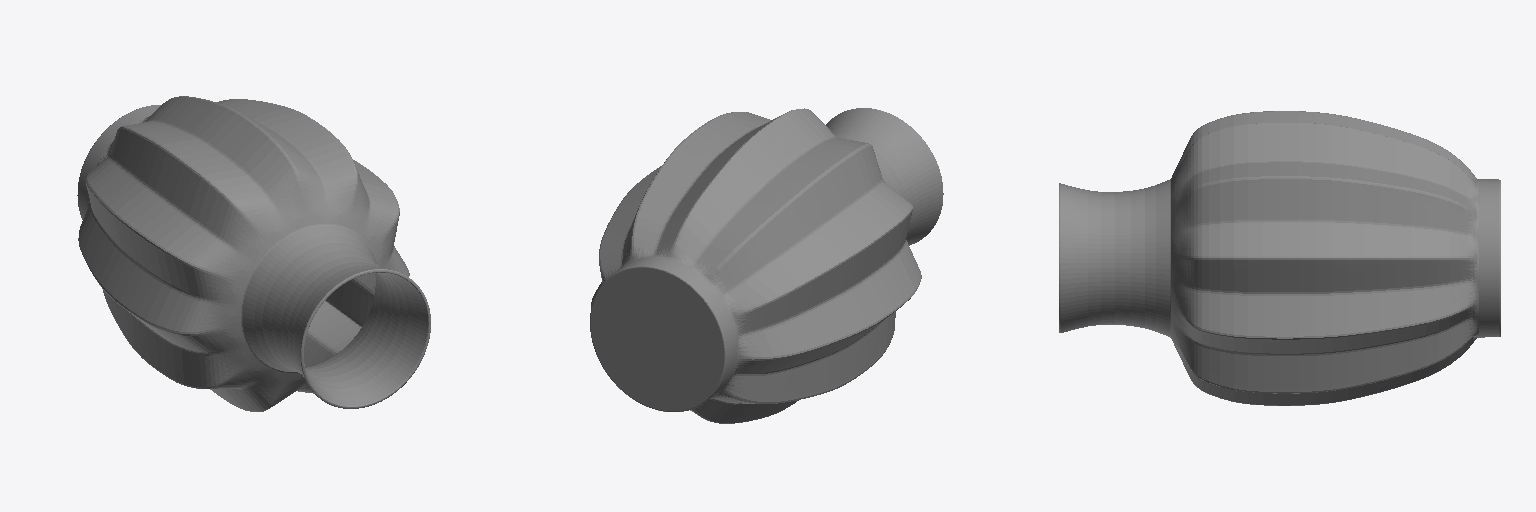
File: vase.obj
The picture shows the model from 3 angles: view 1: azimuth 30°, elevation 25°; view 2: azimuth 150°, elevation 25°; view 3: azimuth 270°, elevation 25°; orthographic projection.
Visible parts, largest first — view 1: 10327_Vase_v1_max2010; view 2: 10327_Vase_v1_max2010; view 3: 10327_Vase_v1_max2010.
Boxes of the visible parts, x1=… form: 10327_Vase_v1_max2010: x1=77, y1=96, x2=430, y2=411; 10327_Vase_v1_max2010: x1=590, y1=108, x2=943, y2=423; 10327_Vase_v1_max2010: x1=1059, y1=111, x2=1500, y2=405.
Size of the model in its own units: 0.3035 by 0.3009 by 0.4555.